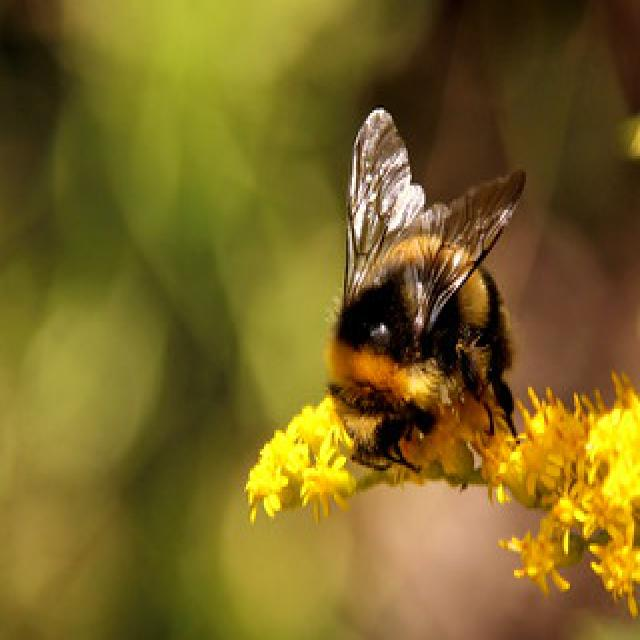Abeille: (306, 80, 539, 502)
